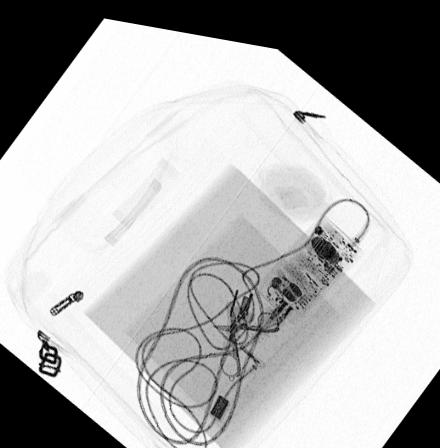Scissors: (209, 295, 280, 373)
